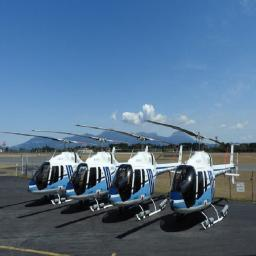helicopter: (90, 111, 185, 237), (158, 105, 243, 241), (53, 131, 133, 240), (17, 128, 90, 212)
